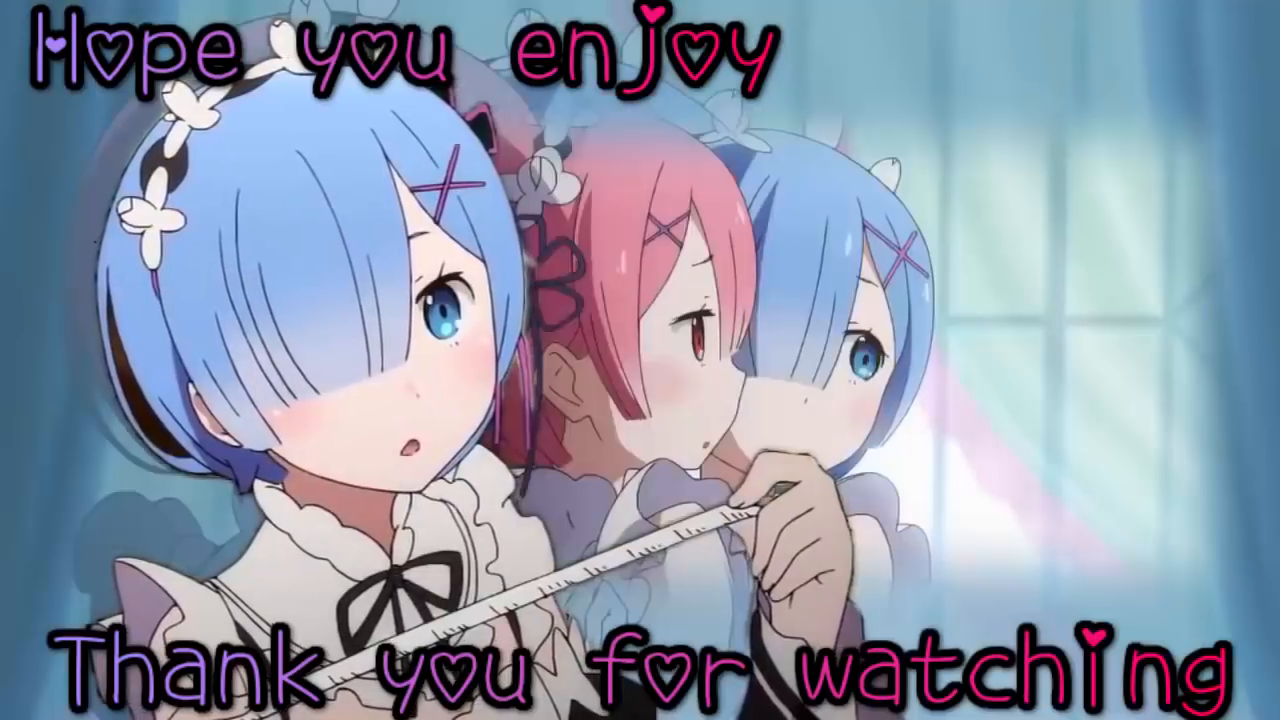REM: (79, 54, 514, 500), (707, 128, 942, 497)
